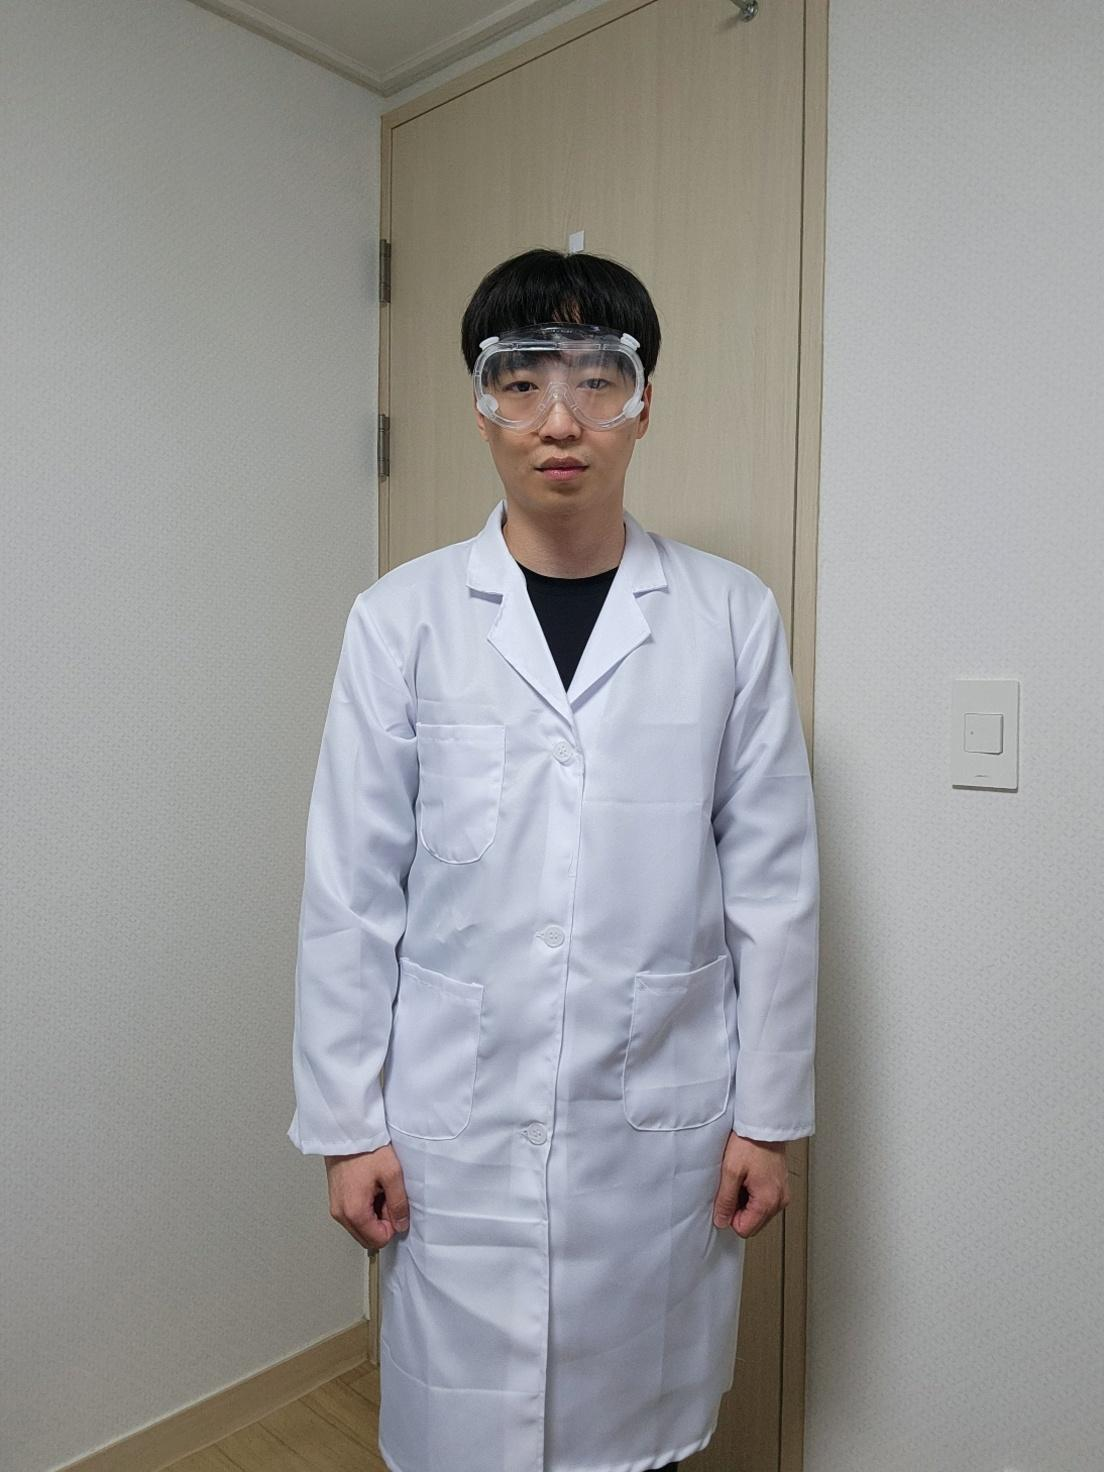lab_coat: (290, 507, 816, 1471)
